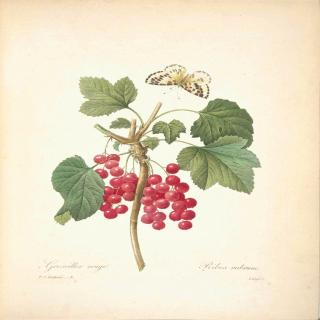Grape: (142, 163, 198, 230), (92, 154, 138, 219)
